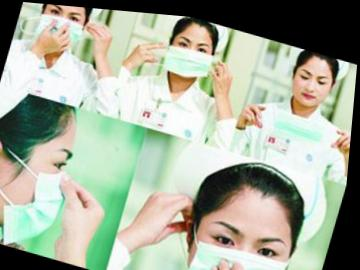NONE: (166, 26, 218, 80), (291, 54, 337, 107)
OK: (1, 123, 86, 253), (183, 193, 306, 270)
WRONG: (37, 4, 90, 54)
